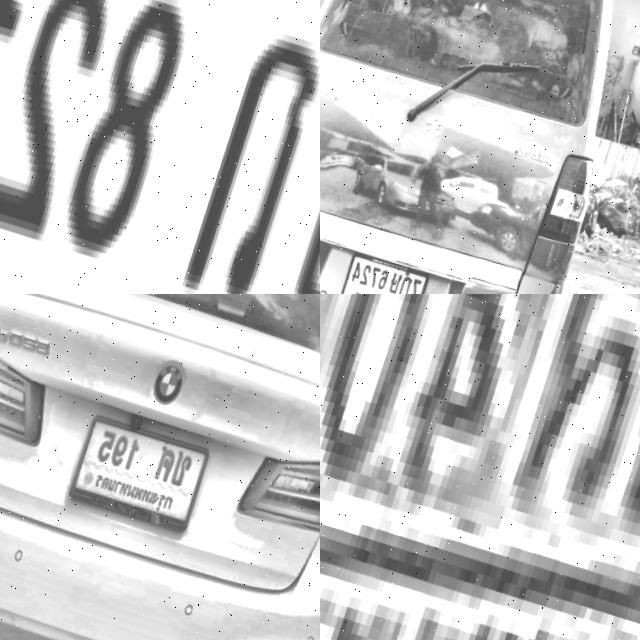license-plate: (320, 294, 640, 640), (0, 0, 320, 294), (68, 404, 219, 533), (337, 242, 438, 294)
